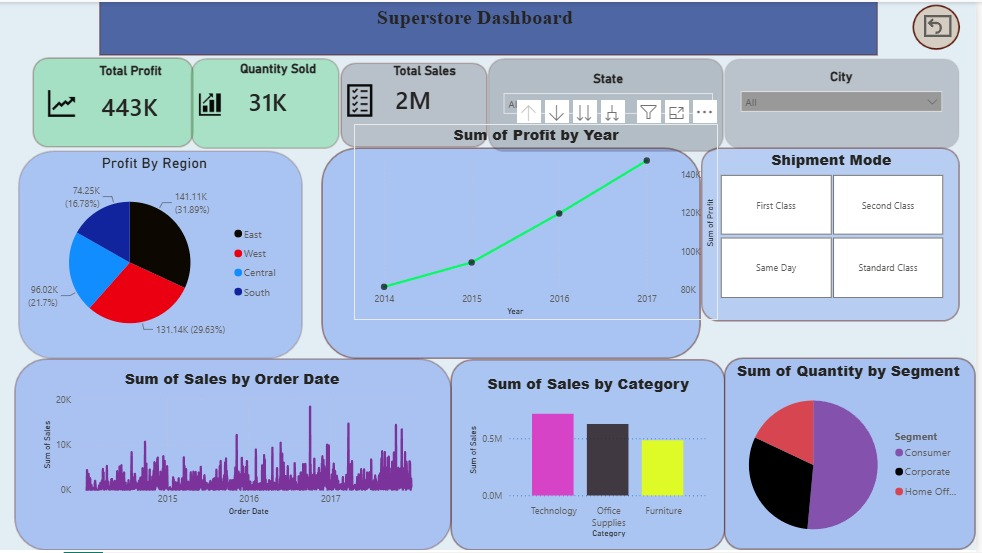

This screenshot's page, from the dashboard's own definition file:
{"tool":"powerbi","page":{"name":"Page 1","canvas":[1280,720],"ordinal":0},"visuals":[{"type":"cardVisual","title":"Total Sales","fields":{"Data":["Sum(superstore_cleaned.Sales)"]},"box":[489.6,79.2,135.4,97.9],"z":0},{"type":"cardVisual","title":"Total Profit","fields":{"Data":["Sum(superstore_cleaned.Profit)"]},"box":[105.1,79.2,135.4,92.2],"z":1000},{"type":"cardVisual","title":" Quantity Sold","fields":{"Data":["Sum(superstore_cleaned.Quantity)"]},"box":[282.2,77.8,165.6,118.1],"z":2000},{"type":"pieChart","title":"Profit By Region","fields":{"Category":["superstore_cleaned.Region"],"Y":["Sum(superstore_cleaned.Profit)"]},"box":[30.2,198.7,347,262.1],"z":3000},{"type":"slicer","title":"State","fields":{"Values":["superstore_cleaned.State"]},"box":[650.9,90.7,293.8,73.4],"z":4000},{"type":"slicer","title":"City","fields":{"Values":["superstore_cleaned.City"]},"box":[960.5,87.8,283.7,89.3],"z":5000},{"type":"lineChart","fields":{"Category":["superstore_cleaned.Order Date"],"Y":["Sum(superstore_cleaned.Sales)"]},"box":[51.8,479.5,505.4,198.7],"z":6000},{"type":"columnChart","title":"Sum of Sales by Category","fields":{"Category":["superstore_cleaned.Category"],"Y":["Sum(superstore_cleaned.Sales)"]},"box":[610.6,485.3,322.6,220.3],"z":7000},{"type":"pieChart","fields":{"Category":["superstore_cleaned.Segment"],"Y":["Sum(superstore_cleaned.Quantity)"]},"box":[954.7,468,315.4,247.7],"z":8000},{"type":"slicer","title":"Shipment Mode","fields":{"Values":["superstore_cleaned.Ship Mode"]},"box":[918.7,193,341.3,201.6],"z":9000},{"type":"lineStackedColumnComboChart","fields":{"Category":["superstore_cleaned.Order Date.Variation.Date Hierarchy.Year","superstore_cleaned.Order Date.Variation.Date Hierarchy.Quarter","superstore_cleaned.Order Date.Variation.Date Hierarchy.Month","superstore_cleaned.Order Date.Variation.Date Hierarchy.Day"],"Y2":["Sum(superstore_cleaned.Profit)"]},"box":[465.1,159.8,476.6,256.3],"z":10000},{"type":"textbox","box":[191.5,0,864,69.1],"z":11000},{"type":"actionButton","box":[1211,17.3,36,28.8],"z":12000}]}

Visuals, with their boxes in screenshot pixels (x1, y1, x2, y2), scaled from the page's 1280x720 canvas onto the 982x553 screenshot:
"Total Sales" cardVisual: region(376, 61, 479, 136)
"Total Profit" cardVisual: region(81, 61, 185, 132)
" Quantity Sold" cardVisual: region(217, 60, 344, 150)
"Profit By Region" pieChart: region(23, 153, 289, 354)
"State" slicer: region(499, 70, 725, 126)
"City" slicer: region(737, 67, 955, 136)
lineChart - superstore_cleaned.Order Date x Sum(superstore_cleaned.Sales): region(40, 368, 427, 521)
"Sum of Sales by Category" columnChart: region(468, 373, 716, 542)
pieChart - superstore_cleaned.Segment x Sum(superstore_cleaned.Quantity): region(732, 359, 974, 550)
"Shipment Mode" slicer: region(705, 148, 967, 303)
lineStackedColumnComboChart - superstore_cleaned.Order Date.Variation.Date Hierarchy.Year x superstore_cleaned.Order Date.Variation.Date Hierarchy.Quarter: region(357, 123, 722, 320)
textbox: region(147, 0, 810, 53)
actionButton: region(929, 13, 957, 35)
